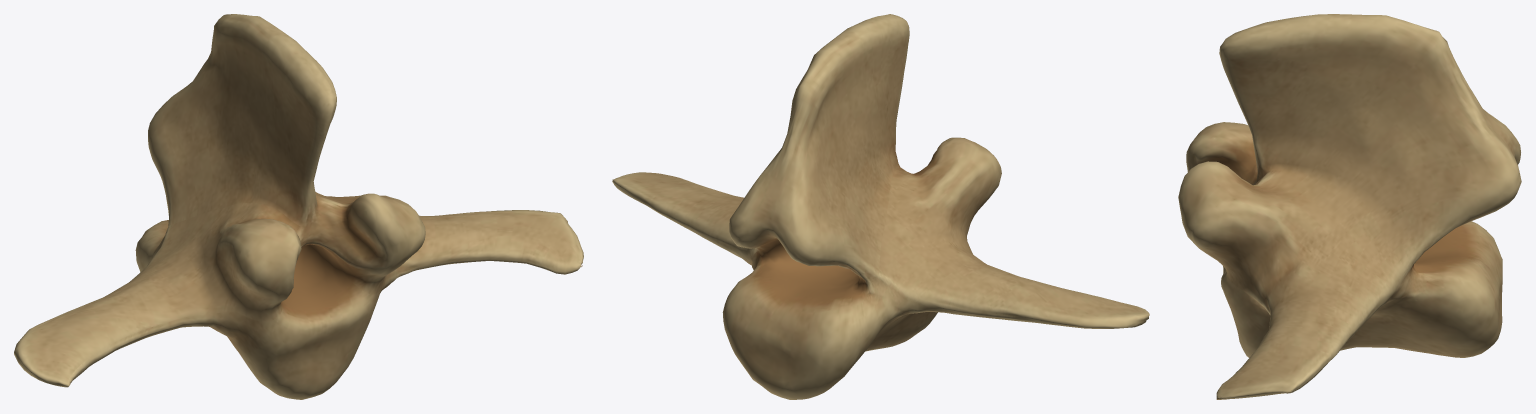
The picture shows the model from 3 angles, left to right: view 1: azimuth 30°, elevation 25°; view 2: azimuth 150°, elevation 25°; view 3: azimuth 270°, elevation 25°; orthographic projection. The views are drawn at different scales.
Visible parts, largest first — view 1: ZBrush_defualt_group.021; view 2: ZBrush_defualt_group.021; view 3: ZBrush_defualt_group.021.
Boxes of the visible parts, box(x1,y1,x2,y2) form: ZBrush_defualt_group.021: box(14, 14, 583, 399); ZBrush_defualt_group.021: box(612, 14, 1149, 399); ZBrush_defualt_group.021: box(1178, 14, 1521, 399).
Size of the model in its own units: 114 by 67.73 by 60.23.
Materials: 1 (1 with a texture image).
